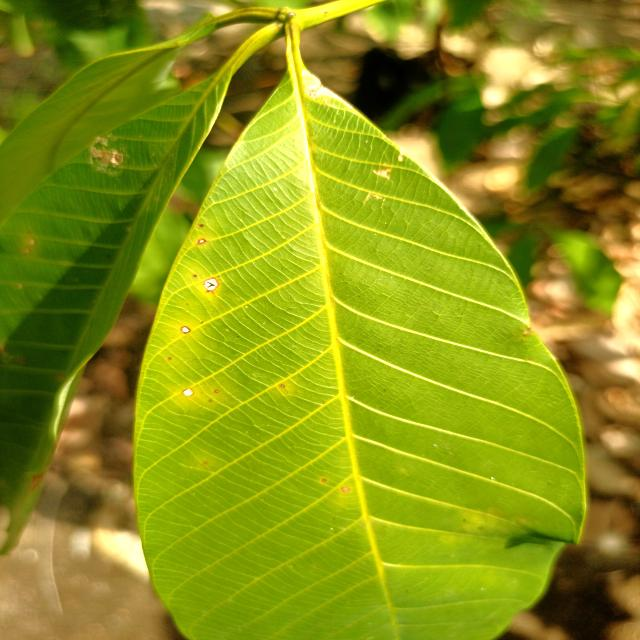Colletotrichum: (203, 277, 219, 291), (182, 388, 194, 396), (181, 326, 191, 334), (198, 238, 206, 244), (342, 487, 349, 491), (322, 478, 326, 482), (199, 225, 204, 228), (215, 390, 219, 393), (281, 384, 284, 388), (194, 275, 196, 277)
